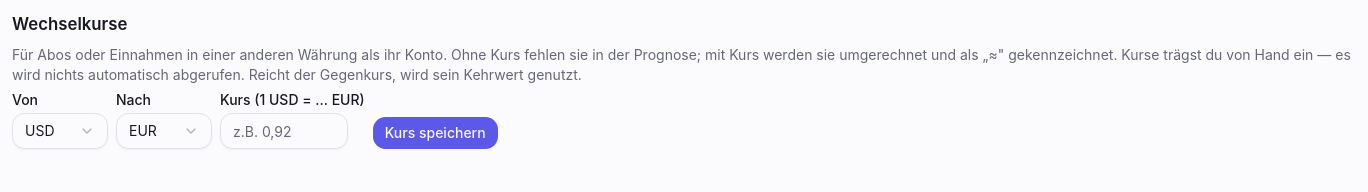
Test: RatesSection › lehnt die Eingabe  ab
Step 1. Click the button "Kurs speichern" → (435, 133), box [373, 117, 498, 149]
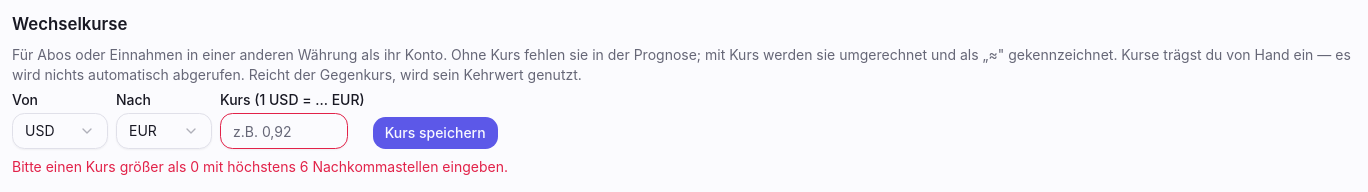
Check: the message shows "Kurs größer als 0", box [12, 158, 508, 175]
